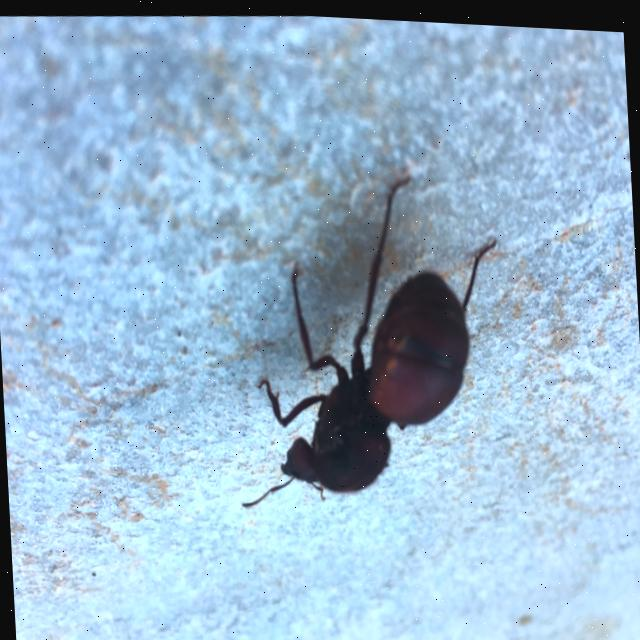Alive-Female-Dealate: (224, 157, 512, 519)
